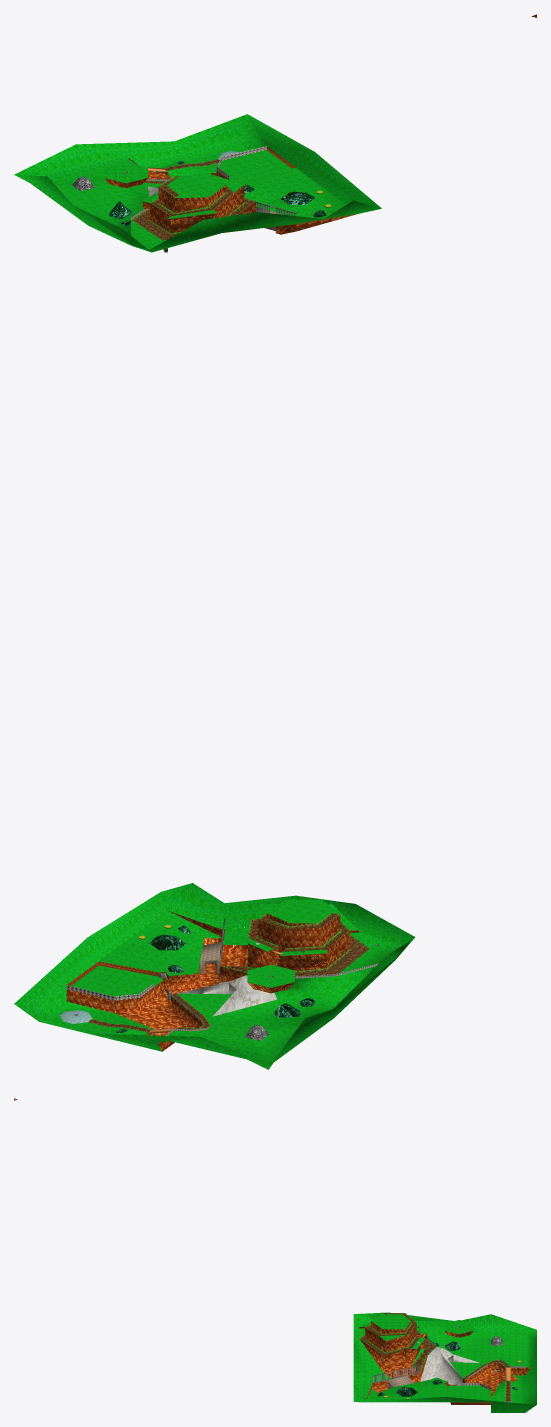
File: bobomb battlefield.fbx
The picture shows the model from 3 angles, top to bottom: view 1: azimuth 30°, elevation 25°; view 2: azimuth 150°, elevation 25°; view 3: azimuth 270°, elevation 25°; orthographic projection. The views are drawn at different scales.
Parts seen in each view (by area): view 1: Shape_IndexedFaceSet.009, Shape_IndexedFaceSet.022, Shape_IndexedFaceSet.024, Shape_IndexedFaceSet.025, Shape_IndexedFaceSet.014, Shape_IndexedFaceSet.065, Shape_IndexedFaceSet.027, Shape_IndexedFaceSet.010; view 2: Shape_IndexedFaceSet.009, Shape_IndexedFaceSet.022, Shape_IndexedFaceSet.024, Shape_IndexedFaceSet.025, Shape_IndexedFaceSet.016, Shape_IndexedFaceSet.014; view 3: Shape_IndexedFaceSet.009, Shape_IndexedFaceSet.022, Shape_IndexedFaceSet.016, Shape_IndexedFaceSet.025, Shape_IndexedFaceSet.024, Shape_IndexedFaceSet.014.
Part boxes in pixels (x1,y1,x2,y2): Shape_IndexedFaceSet.009: [14, 114, 381, 252]; Shape_IndexedFaceSet.022: [104, 146, 357, 234]; Shape_IndexedFaceSet.024: [143, 173, 243, 219]; Shape_IndexedFaceSet.025: [131, 174, 255, 240]; Shape_IndexedFaceSet.014: [109, 161, 325, 225]; Shape_IndexedFaceSet.065: [128, 146, 266, 233]; Shape_IndexedFaceSet.027: [134, 211, 177, 240]; Shape_IndexedFaceSet.010: [144, 159, 220, 183]; Shape_IndexedFaceSet.009: [14, 883, 415, 1069]; Shape_IndexedFaceSet.022: [66, 911, 358, 1051]; Shape_IndexedFaceSet.024: [241, 899, 358, 968]; Shape_IndexedFaceSet.025: [220, 912, 370, 973]; Shape_IndexedFaceSet.016: [177, 943, 276, 1016]; Shape_IndexedFaceSet.014: [116, 925, 315, 1032]; Shape_IndexedFaceSet.009: [353, 1312, 536, 1412]; Shape_IndexedFaceSet.022: [359, 1321, 530, 1407]; Shape_IndexedFaceSet.016: [417, 1342, 479, 1385]; Shape_IndexedFaceSet.025: [359, 1313, 436, 1372]; Shape_IndexedFaceSet.024: [360, 1313, 426, 1365]; Shape_IndexedFaceSet.014: [378, 1341, 517, 1396].
Bounding box in the file's own units: 1639 × 2879 × 4675.
21 materials, 21 textured.
